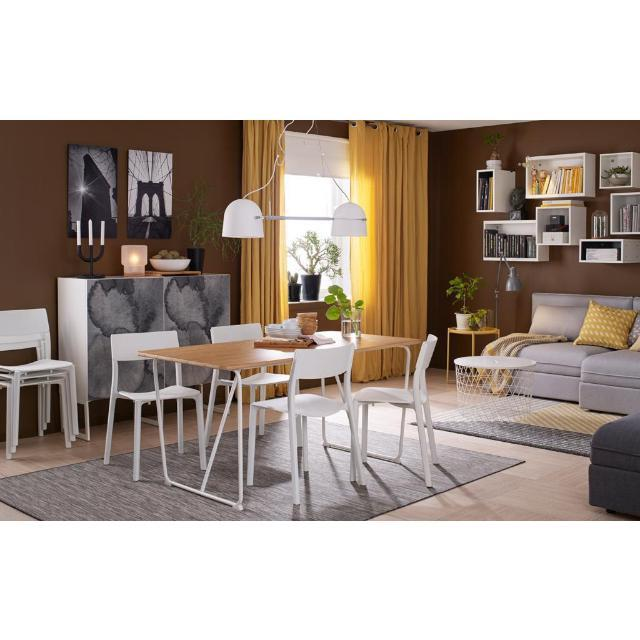chair: (248, 343, 366, 503), (354, 334, 438, 486)
couch: (519, 292, 640, 516)
curtain: (349, 119, 428, 382), (239, 119, 288, 325)
lamp: (494, 252, 522, 327)
light: (221, 154, 368, 237)
pillow: (574, 299, 638, 349)
plant: (446, 272, 488, 328), (325, 285, 363, 320)
rug: (0, 415, 524, 521), (432, 395, 621, 456)
shelf: (476, 152, 640, 262)
table: (139, 330, 421, 510), (455, 355, 536, 422)
wall-art: (56, 270, 231, 440), (68, 143, 118, 238), (129, 150, 172, 238)
